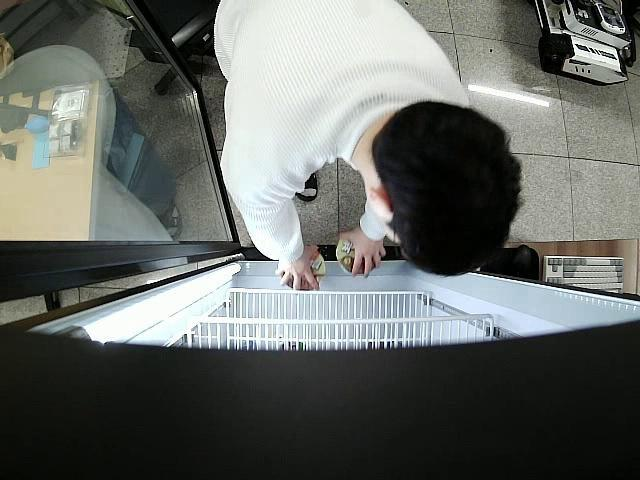03_chapagetti_L: (334, 236, 376, 280), (280, 253, 326, 292)
